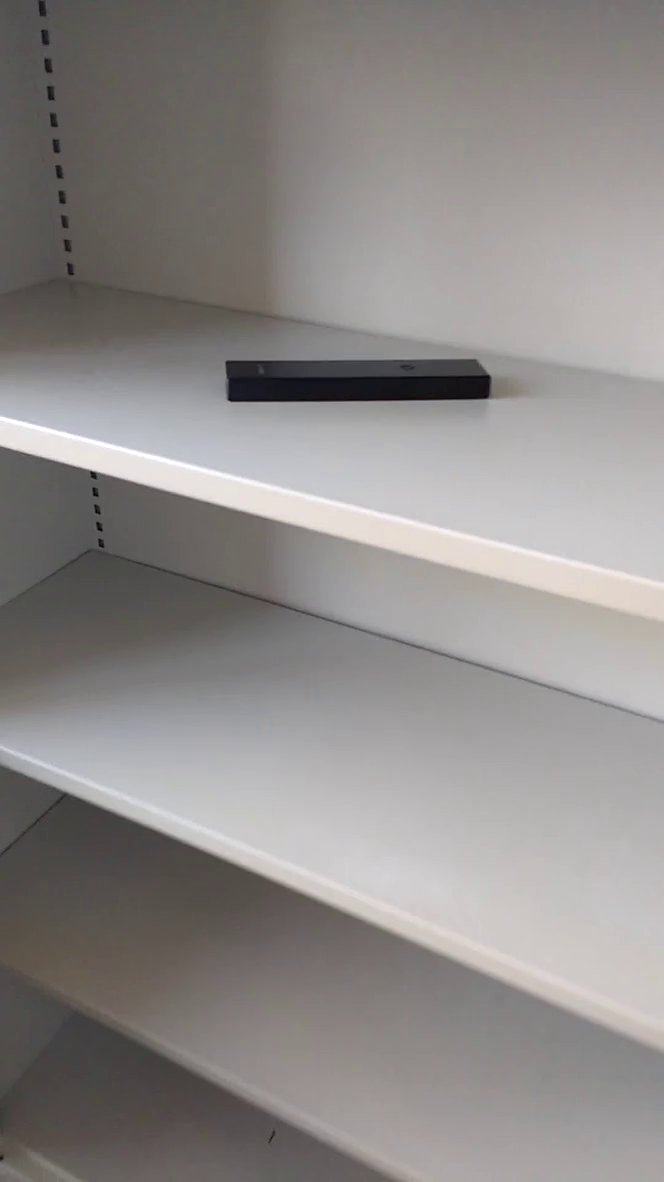remote: (210, 344, 508, 425)
